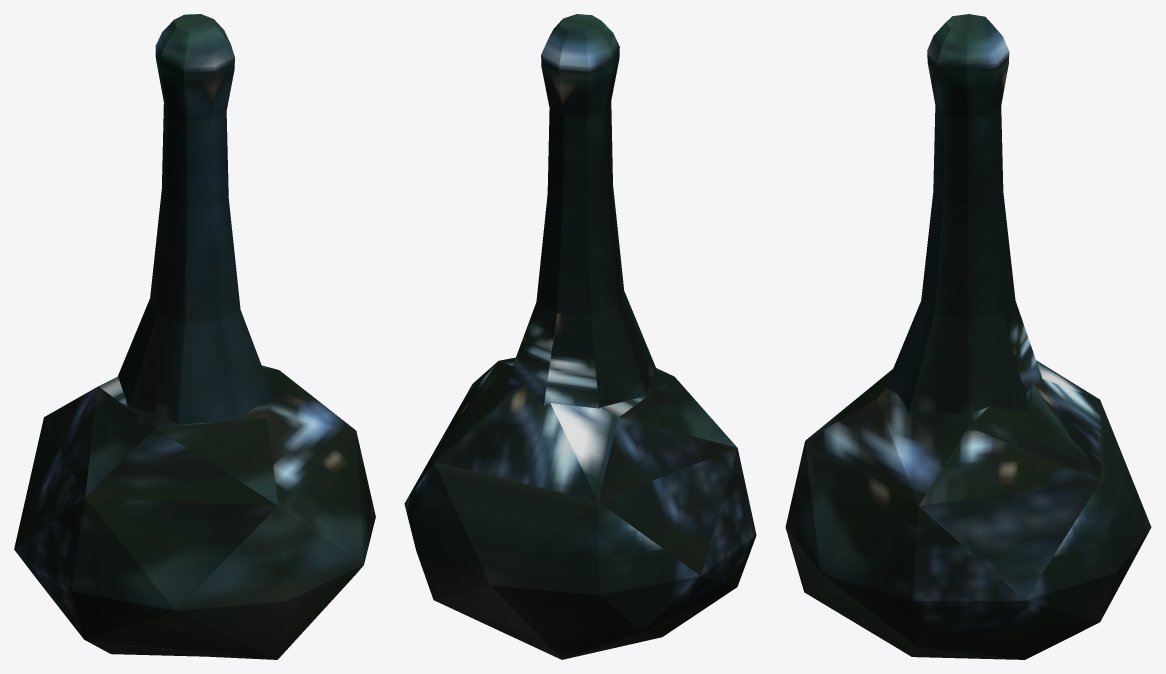
File: bottle.glb
The picture shows the model from 3 angles, left to right: view 1: azimuth 30°, elevation 25°; view 2: azimuth 150°, elevation 25°; view 3: azimuth 270°, elevation 25°; orthographic projection. The views are drawn at different scales.
Visible parts, largest first — view 1: Icosphere; view 2: Icosphere; view 3: Icosphere.
Part boxes in pixels (bbox=[...]): Icosphere: bbox=[14, 14, 375, 659]; Icosphere: bbox=[404, 14, 756, 659]; Icosphere: bbox=[785, 14, 1151, 659].
Size of the model in its own units: 1.69 by 3.25 by 1.78.
Materials: 1 (1 with a texture image).
